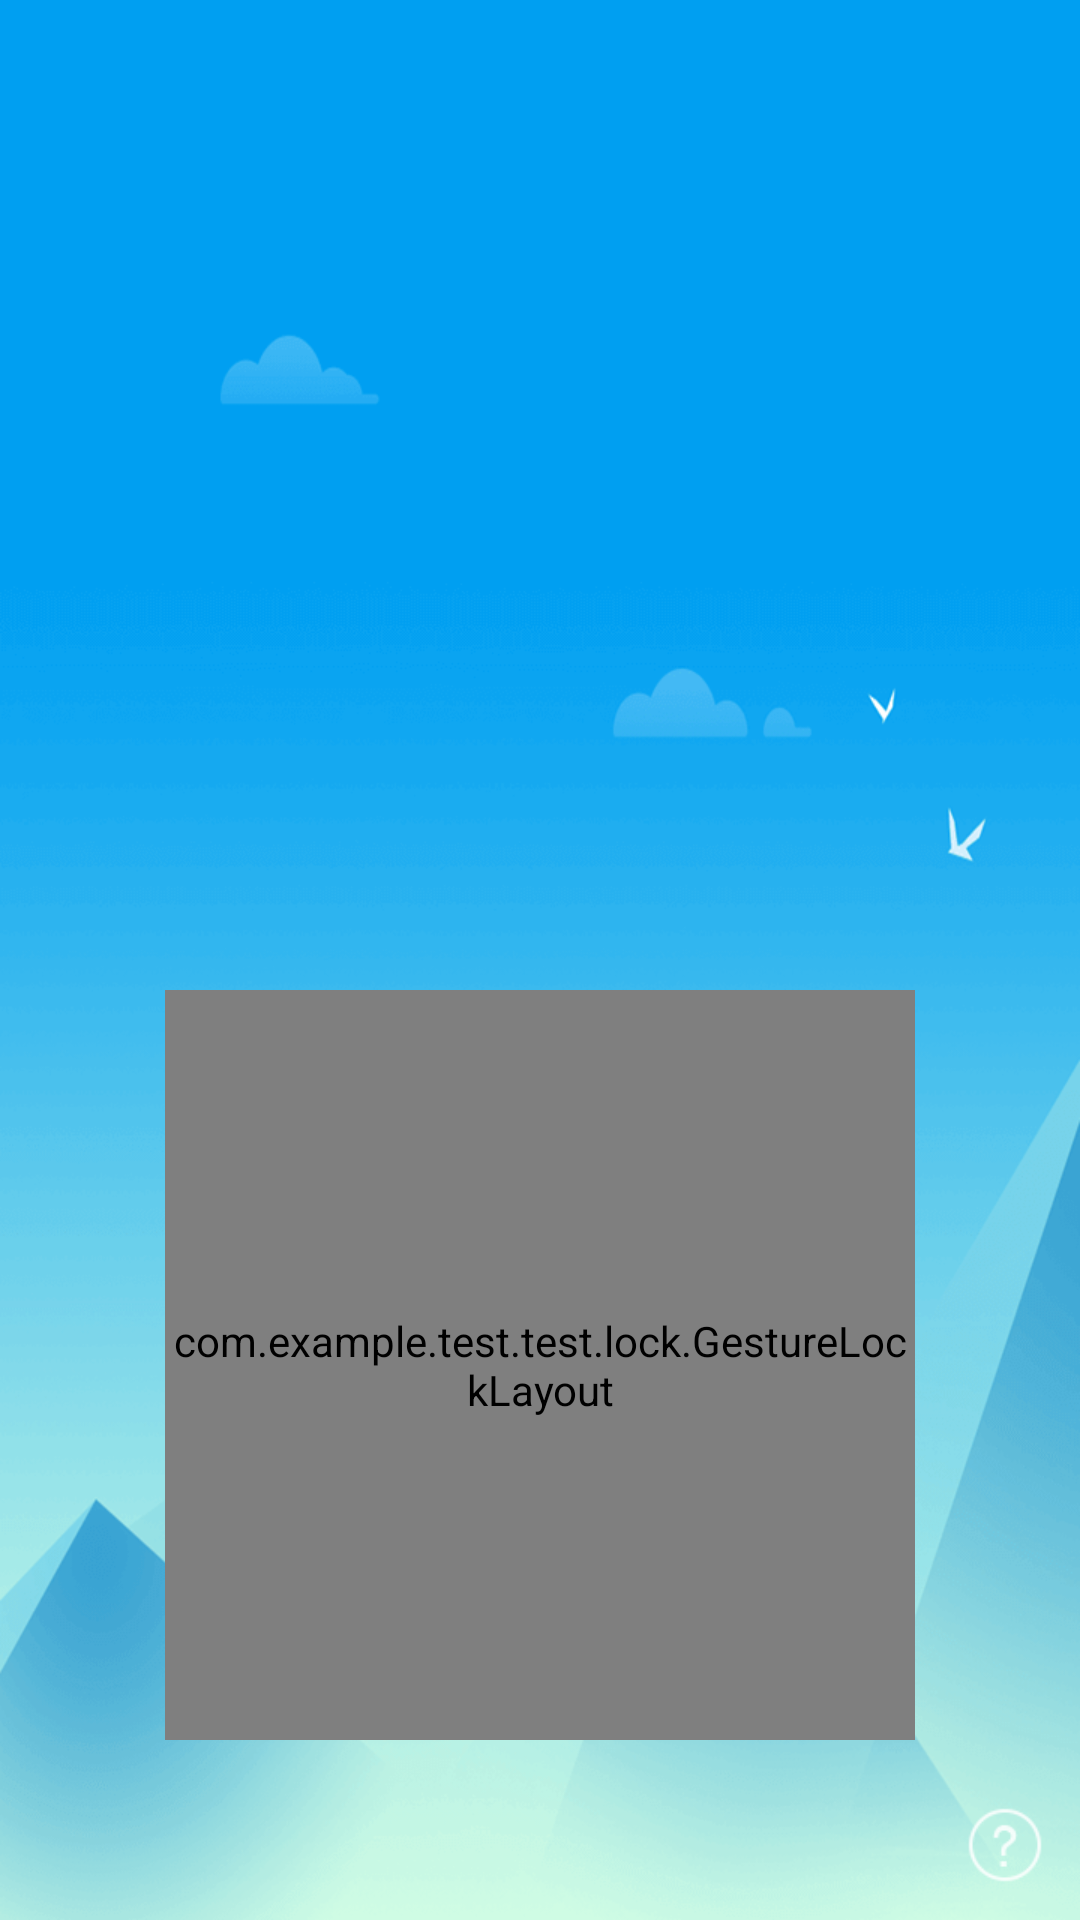

Where to tap for icons on this 1080*1920 app screen, as (x,y):
pwd page forget: (1005,1845)
